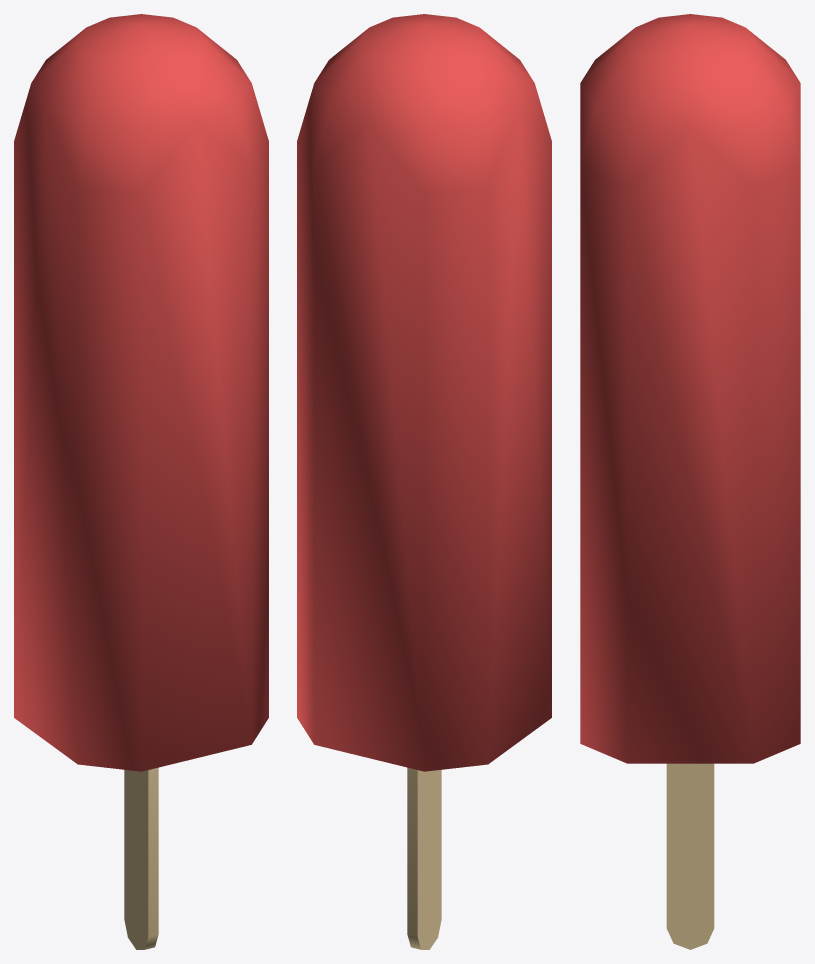
Rendered from Popsicle.fbx.
3 views of the same model, side by side, from view 1: azimuth 30°, elevation 25°; view 2: azimuth 150°, elevation 25°; view 3: azimuth 270°, elevation 25° (orthographic).
Visible parts, largest first — view 1: Model; view 2: Model; view 3: Model.
Boxes of the visible parts, x1,y1,x2,y2 form: Model: [14, 14, 268, 949]; Model: [297, 14, 551, 949]; Model: [580, 14, 800, 949].
Bounding box in the file's own units: 4.79 × 22.14 × 4.79.
